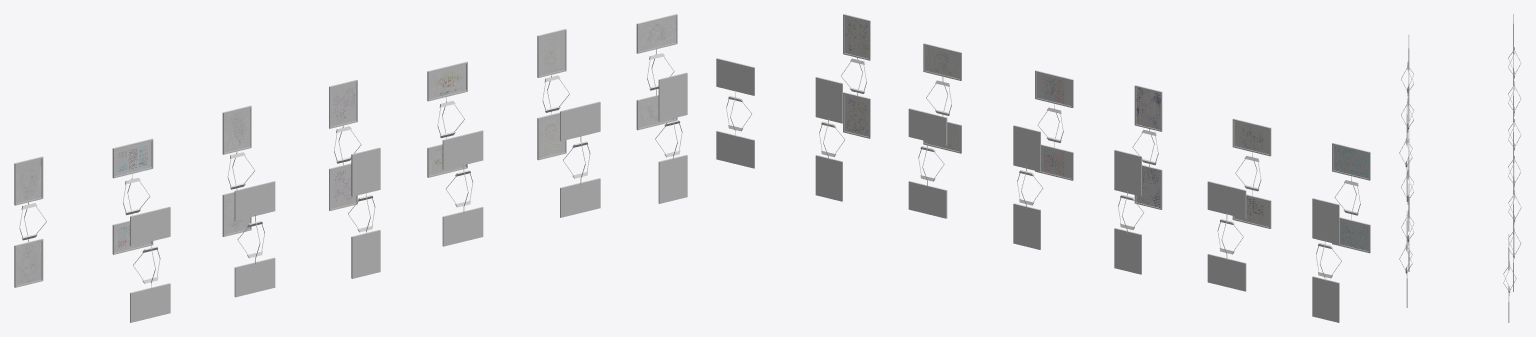
The model's file is ramovi.obj.
3 views of the same model, side by side, from view 1: azimuth 30°, elevation 25°; view 2: azimuth 150°, elevation 25°; view 3: azimuth 270°, elevation 25° (orthographic). The views are drawn at different scales.
Parts seen in each view (by area): view 1: Union.081_ID641, Union.102_ID812, Union.088_ID698, Union.095_ID755, Union.048_ID368, Union.042_ID325, Union.108_ID856, Union.114_ID899, Union.063_ID488, Union.056_ID431, Union.013_ID97, Union.022_ID166 (+12 smaller); view 2: Union.052_ID407, Union.059_ID464, Union.066_ID528, Union.023_ID180, Union.032_ID249, Union.011_ID85, Union.014_ID111, Union.020_ID154, Union.029_ID223, Union.038_ID292, Union.005_ID42, Union.050_ID380 (+14 smaller); view 3: Union.088_ID698, Union.066_ID528, Union.102_ID812, Union.095_ID755, Union.081_ID641, Union.059_ID464.
Part boxes in pixels (box(x1,y1,x2,y2)): Union.081_ID641: box(442, 130, 483, 246); Union.102_ID812: box(234, 181, 275, 297); Union.088_ID698: box(560, 101, 600, 217); Union.095_ID755: box(130, 206, 170, 322); Union.048_ID368: box(351, 147, 380, 196); Union.042_ID325: box(351, 230, 380, 278); Union.108_ID856: box(658, 155, 687, 203); Union.114_ID899: box(658, 72, 687, 121); Union.063_ID488: box(429, 64, 466, 99); Union.056_ID431: box(114, 141, 151, 176); Union.013_ID97: box(539, 31, 564, 75); Union.022_ID166: box(224, 108, 249, 152); Union.052_ID407: box(1207, 181, 1246, 291); Union.059_ID464: box(908, 108, 947, 218); Union.066_ID528: box(716, 58, 754, 168); Union.023_ID180: box(1312, 276, 1339, 322); Union.032_ID249: box(1013, 203, 1040, 249); Union.011_ID85: box(815, 77, 842, 123); Union.014_ID111: box(1114, 228, 1141, 274); Union.020_ID154: box(1114, 150, 1141, 196); Union.029_ID223: box(1312, 198, 1339, 244); Union.038_ID292: box(1013, 125, 1040, 171); Union.005_ID42: box(815, 155, 842, 201); Union.050_ID380: box(1136, 87, 1160, 129); Union.088_ID698: box(1401, 183, 1409, 271); Union.066_ID528: box(1508, 234, 1516, 322); Union.102_ID812: box(1401, 70, 1409, 142); Union.095_ID755: box(1401, 34, 1409, 121); Union.081_ID641: box(1401, 142, 1409, 231); Union.059_ID464: box(1513, 163, 1521, 250).
Size of the model in its own units: 48.66 by 8.75 by 11.05.
Materials: 27 (26 with a texture image).
